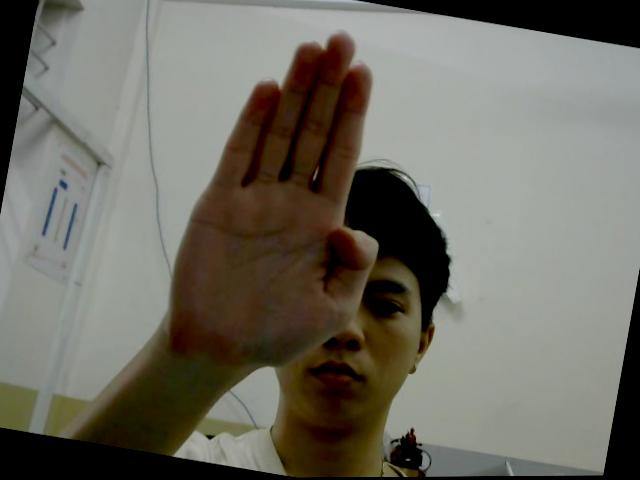B: (157, 6, 416, 384)
